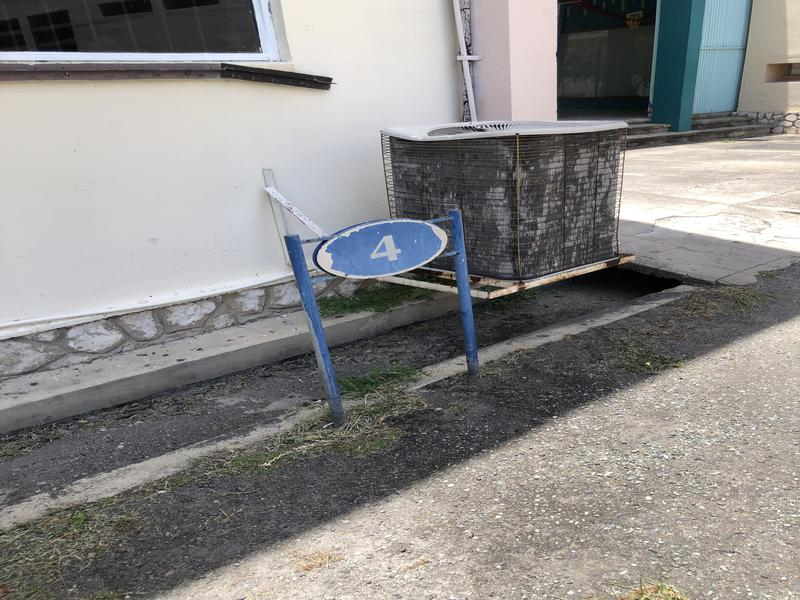18.0053530_-76.7490375_signatentrancetoscitech: (278, 201, 513, 417)
